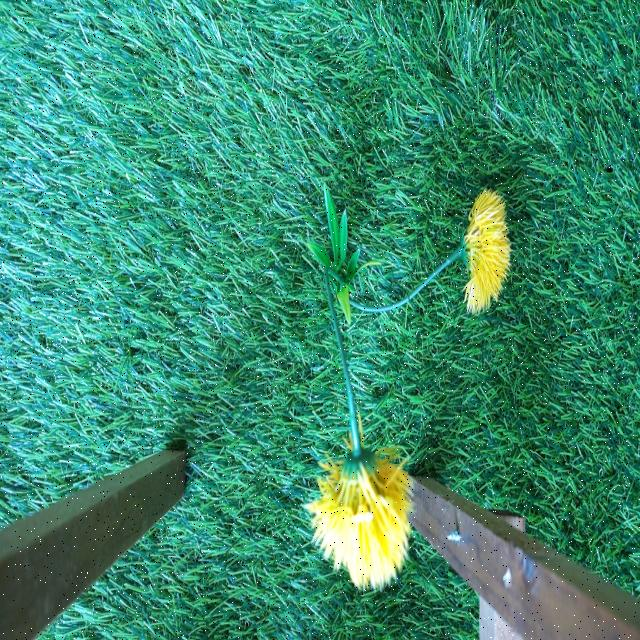base: (304, 199, 376, 325)
flower: (305, 445, 413, 587), (463, 192, 511, 314)
